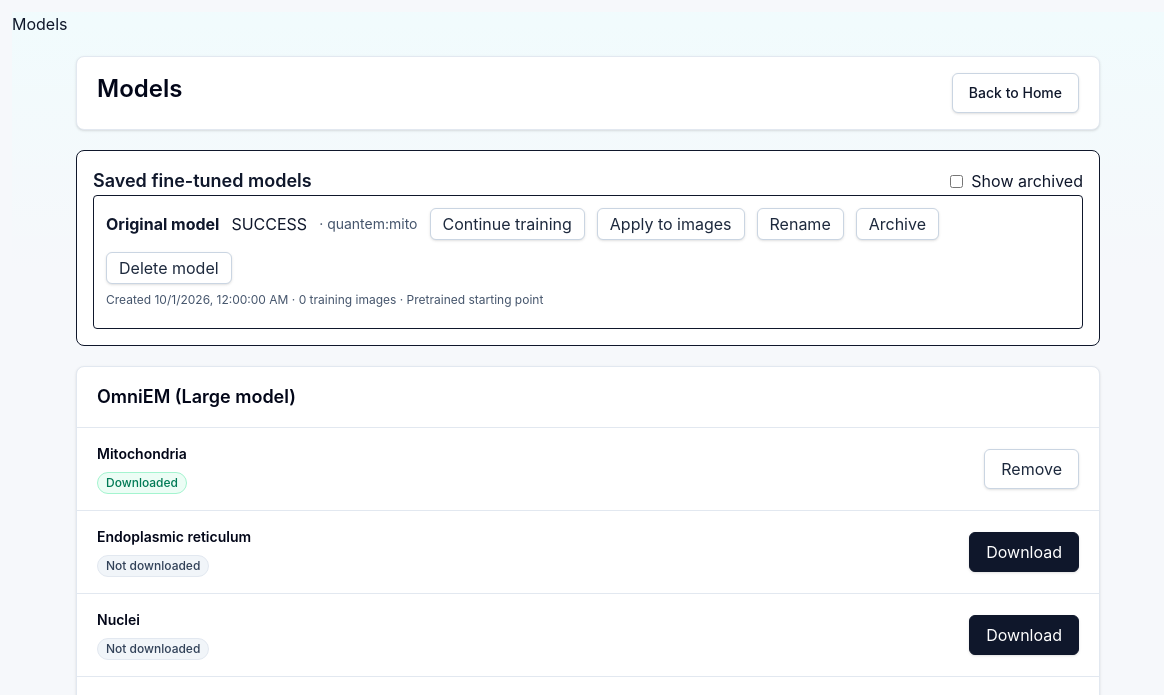
Test: ModelsScreen › refreshes saved models and the catalogue when Models is clicked on the same route
The width and height of the screenshot is (1164, 695).
Expected: the text "Original model" is shown, x1=106 y1=212 x2=219 y2=236
Expected: the text "Downloaded" is shown, x1=97 y1=472 x2=187 y2=494
Click the link "Models" at coordinates (40, 24), box x1=12 y1=14 x2=68 y2=34
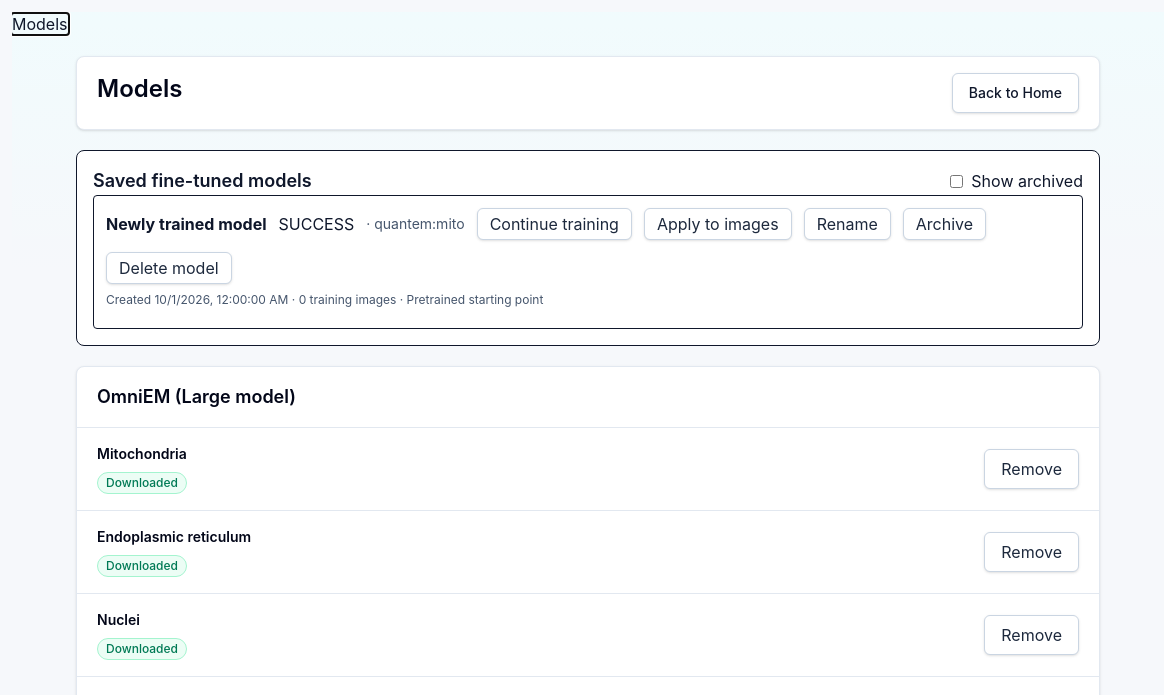
Result: the text "Newly trained model" is shown at x1=106 y1=212 x2=266 y2=236
